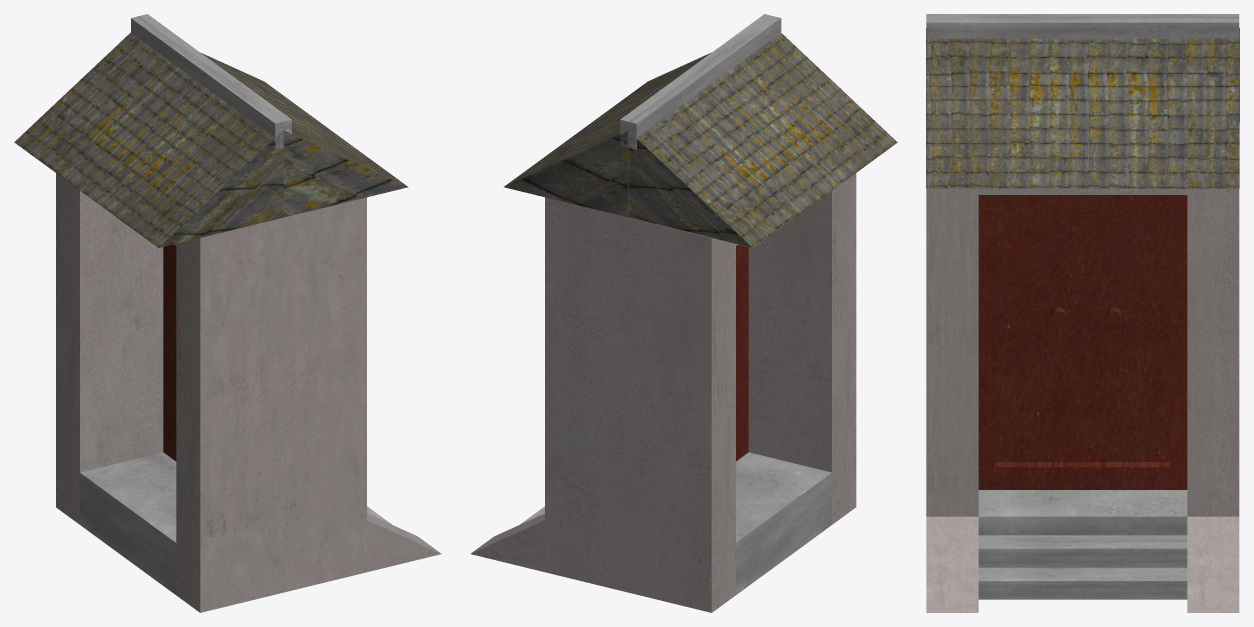
File: suiqiangmen.glb
3 renders of one model, left to right at view 1: azimuth 30°, elevation 25°; view 2: azimuth 150°, elevation 25°; view 3: azimuth 270°, elevation 25°, orthographic. The views are drawn at different scales.
Visible parts, largest first — view 1: Cube.004; view 2: Cube.004; view 3: Cube.004.
Part boxes in pixels (x1=…): Cube.004: x1=14, y1=14, x2=441, y2=612; Cube.004: x1=470, y1=14, x2=897, y2=612; Cube.004: x1=926, y1=14, x2=1239, y2=612.
Size of the model in its own units: 6.8 by 10.8 by 6.01.
1 material, 1 textured.
